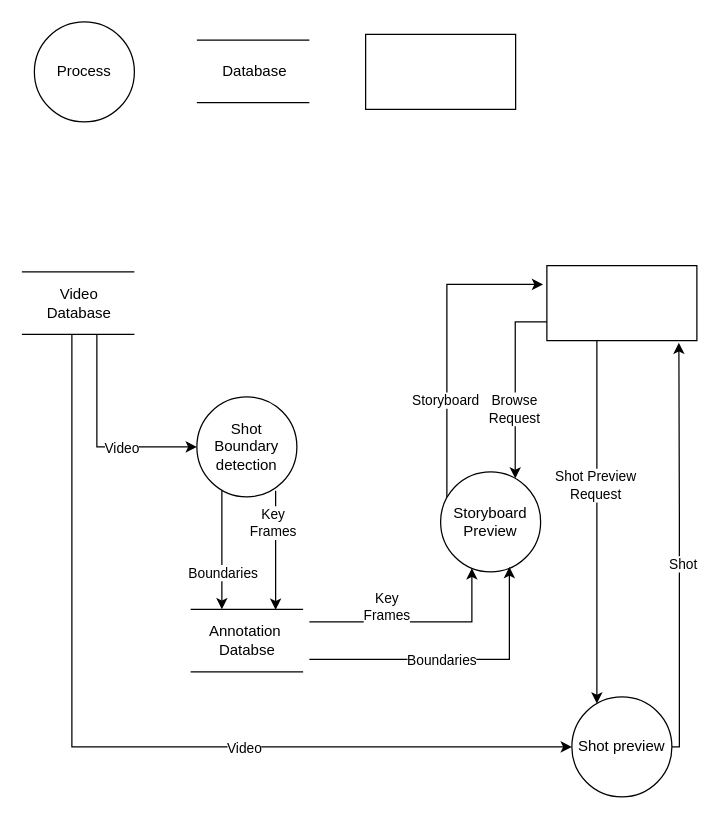
The diagram is 719 pixels wide and 819 high, and some of its shapes have lost their labels. Each missing label, with the box of its shape:
Input/Output: (364, 33, 516, 109)
User: (546, 264, 697, 341)
